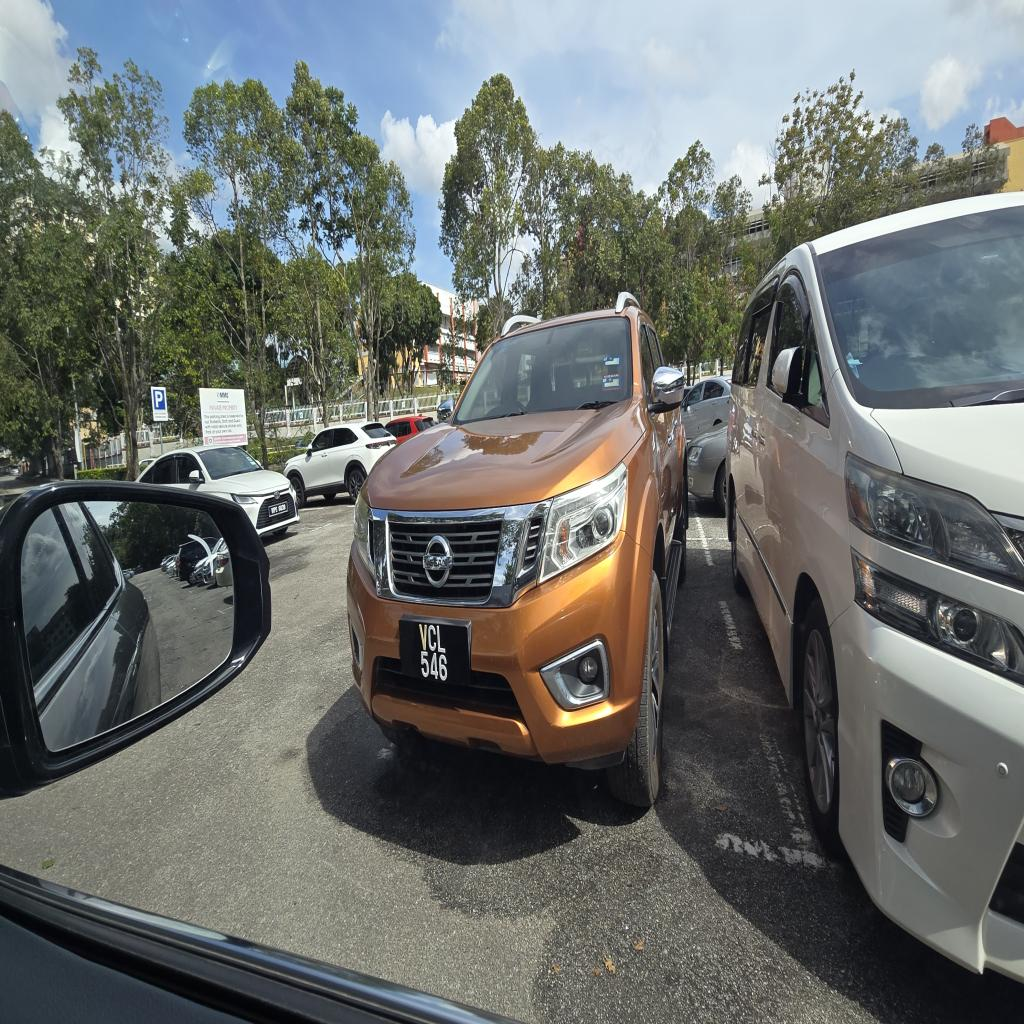car: (348, 293, 686, 806)
car plate: (399, 616, 470, 684)
